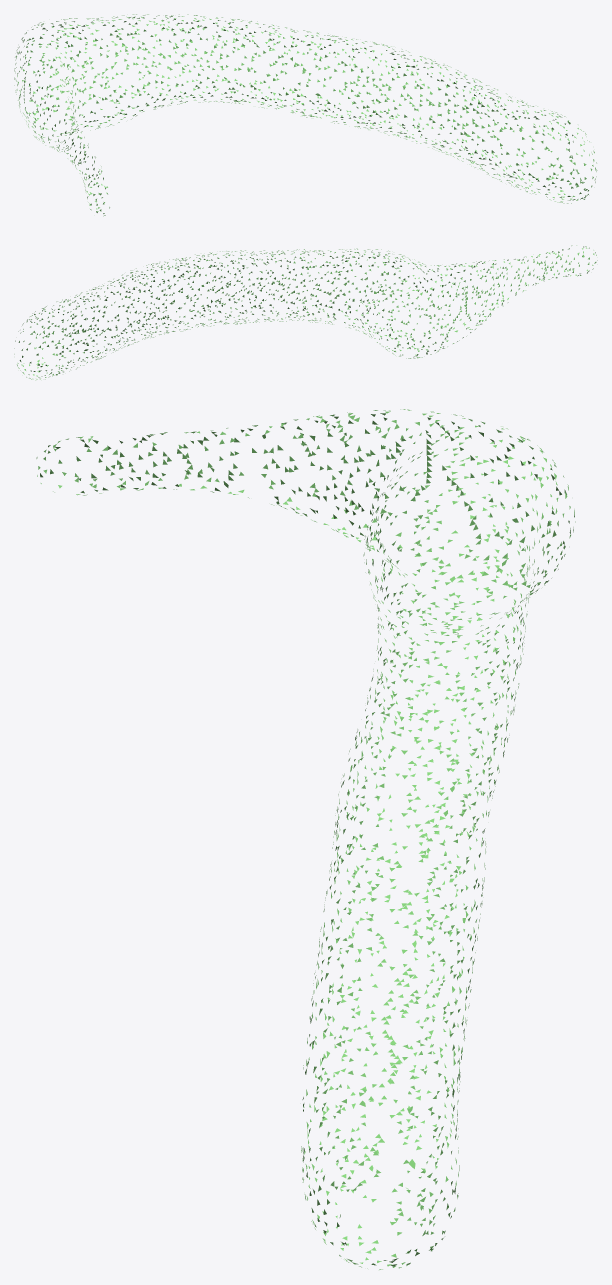
Rendered from morph_016.glb.
3 renders of one model, top to bottom at view 1: azimuth 30°, elevation 25°; view 2: azimuth 150°, elevation 25°; view 3: azimuth 270°, elevation 25°, orthographic. The views are drawn at different scales.
Bounding box in the file's own units: 136 × 59.57 × 64.77.
